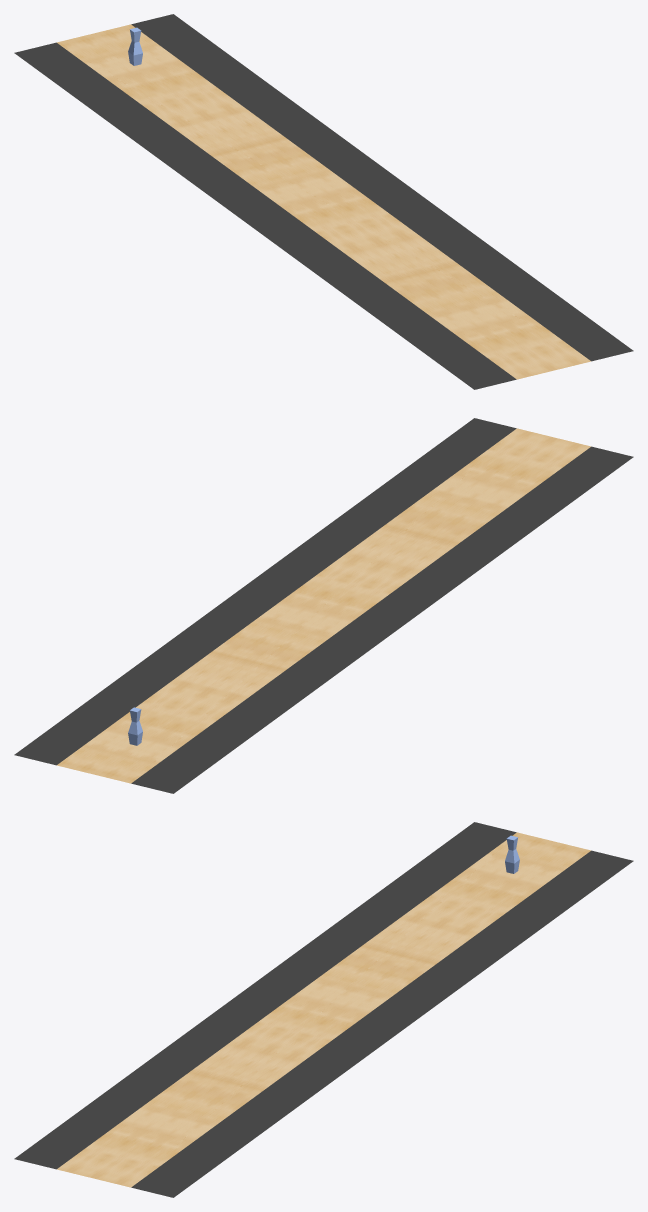
File: boliche.glb
3 views of the same model, one above another, from view 1: azimuth 30°, elevation 25°; view 2: azimuth 150°, elevation 25°; view 3: azimuth 330°, elevation 25° (orthographic).
Visible parts, largest first — view 1: meio, esquerda, direita; view 2: meio, esquerda, direita; view 3: meio, direita, esquerda.
Part boxes in pixels (x1,y1,x2,y2): meio: [57, 24, 590, 379]; esquerda: [14, 42, 516, 389]; direita: [131, 14, 633, 361]; meio: [57, 428, 590, 783]; esquerda: [131, 446, 633, 793]; direita: [14, 418, 516, 765]; meio: [57, 832, 590, 1187]; direita: [131, 850, 633, 1197]; esquerda: [14, 822, 516, 1169].
Bounding box in the file's own units: 6 × 1.23 × 30.
3 materials, 1 textured.
